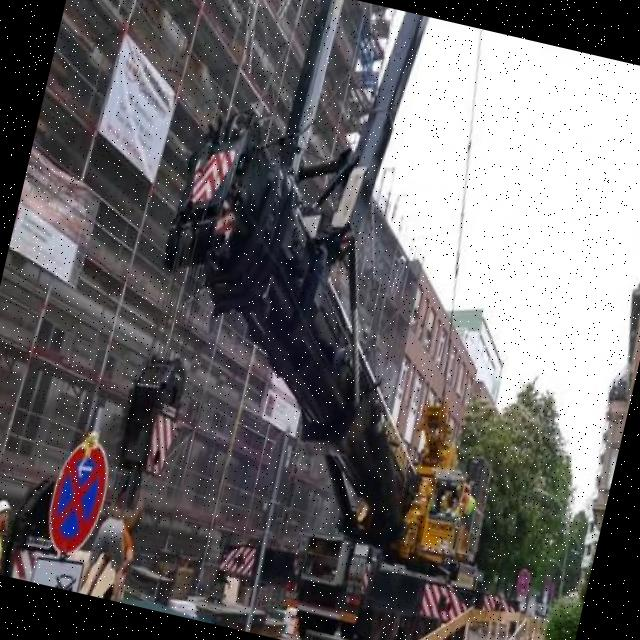Mobile Crane: (82, 0, 605, 640)
